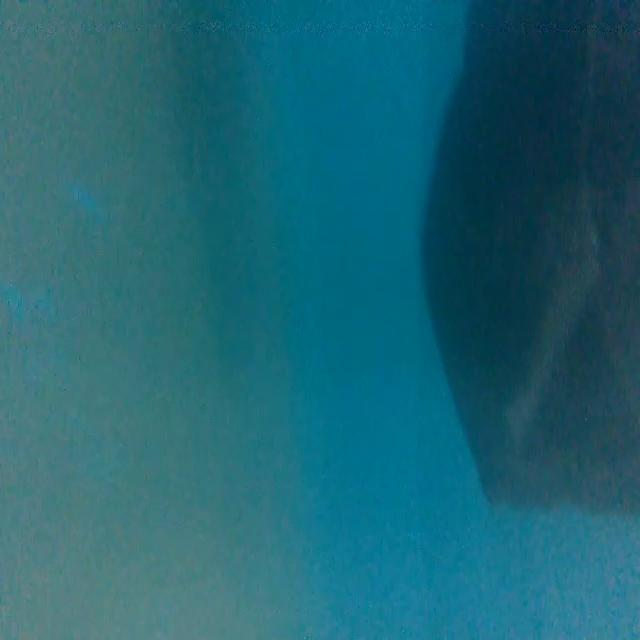plastic bags: (426, 0, 640, 516)
